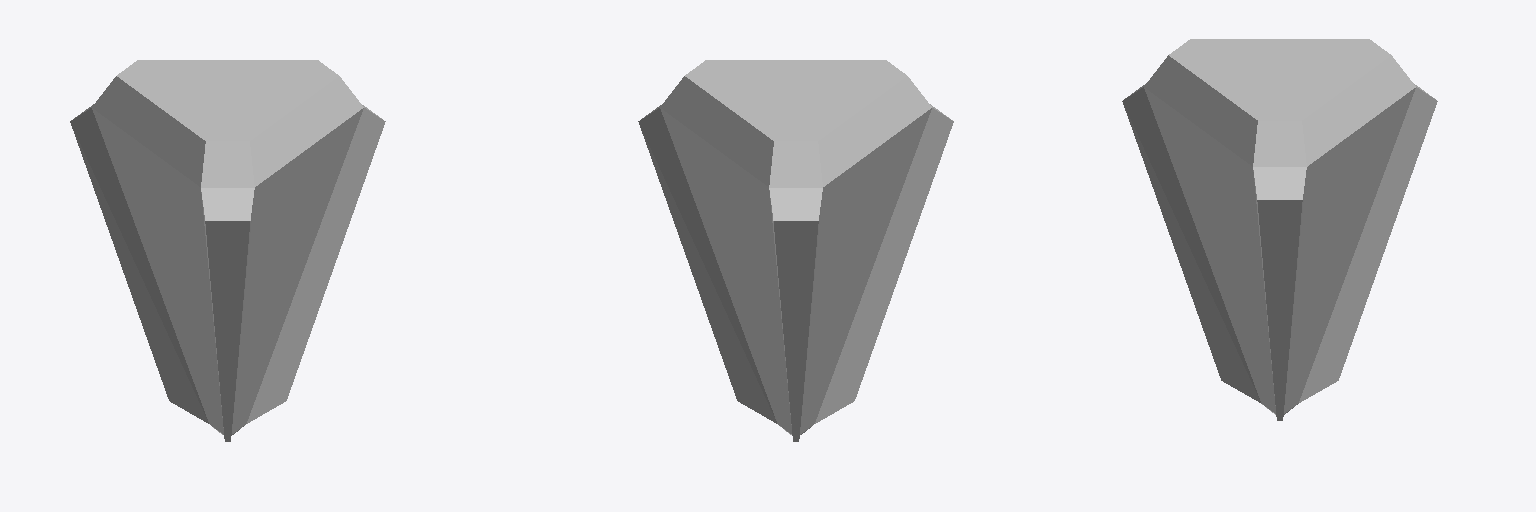
File: PlafondNeon001.obj
The picture shows the model from 3 angles: view 1: azimuth 30°, elevation 25°; view 2: azimuth 150°, elevation 25°; view 3: azimuth 270°, elevation 25°; orthographic projection.
Parts seen in each view (by area): view 1: PlafondNeon001_Circle.001; view 2: PlafondNeon001_Circle.001; view 3: PlafondNeon001_Circle.001.
Part boxes in pixels (x1,y1,x2,y2): PlafondNeon001_Circle.001: (70,60,385,441); PlafondNeon001_Circle.001: (638,60,953,441); PlafondNeon001_Circle.001: (1122,39,1437,420).
Bounding box in the file's own units: 2.21 × 3.04 × 2.55.